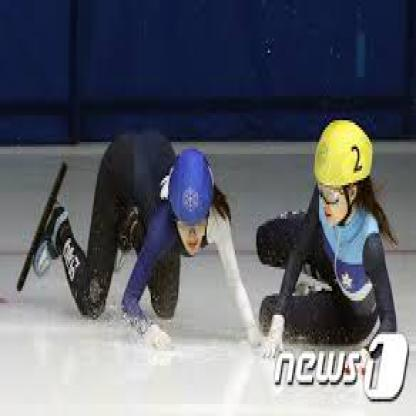Fall_Down: (32, 124, 275, 358)
